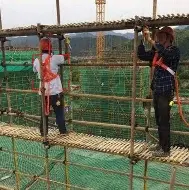safety belt: (30, 55, 70, 90), (151, 52, 180, 90)
